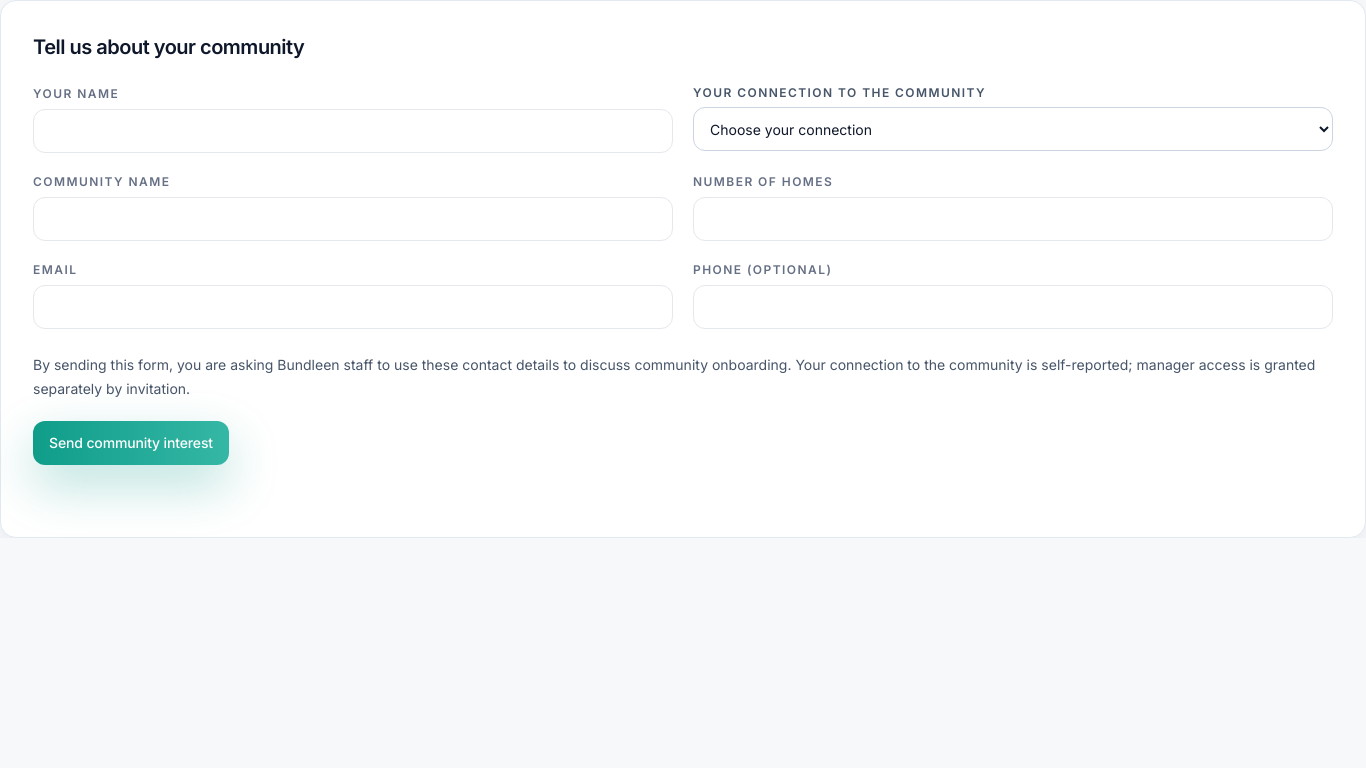
Scenario: public community interest form › submits only normalized contact metadata, then focuses a truthful receipt without account access
The width and height of the screenshot is (1366, 768).
Type " Jane Smith " into the field labelled "Your name" at (353, 131), box [46,110,660,152]
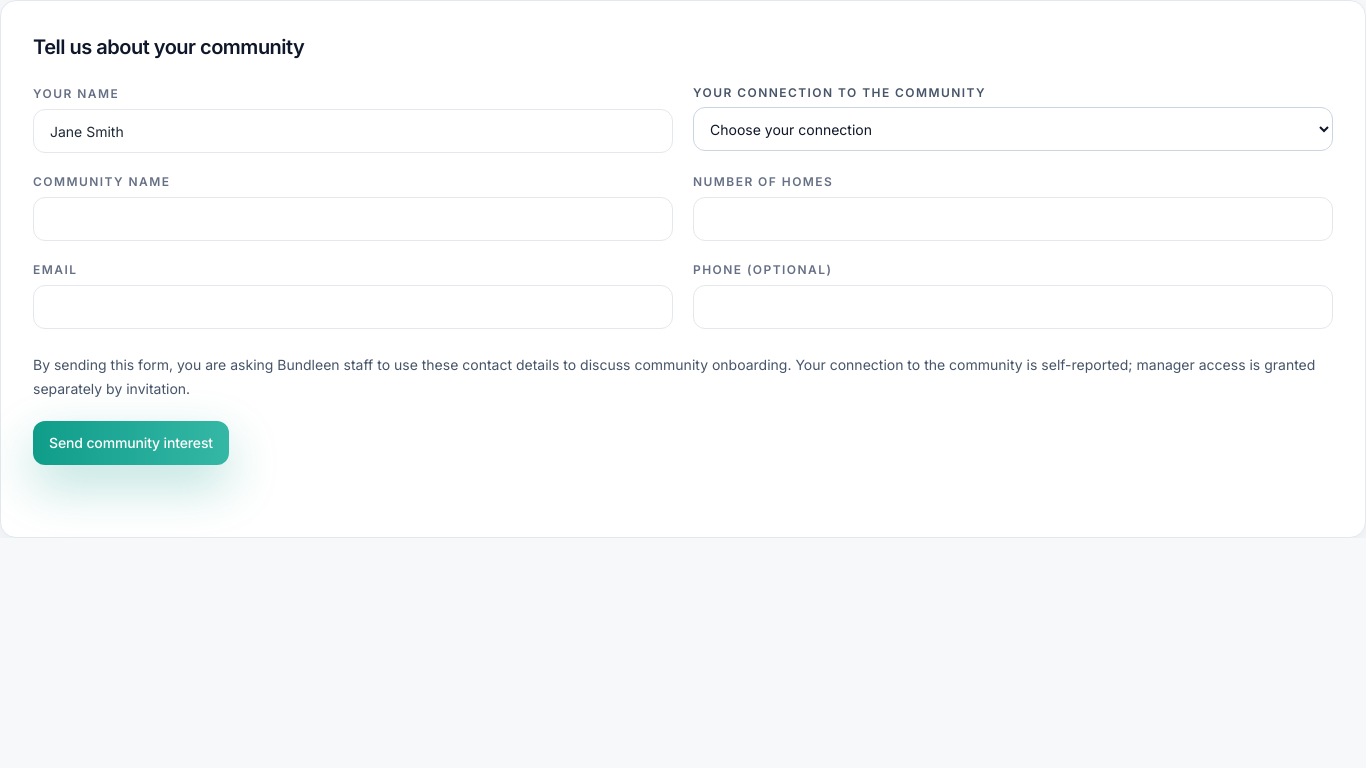
Type "Oakwood HOA" into the field labelled "Community name" at (353, 219), box [46,198,660,240]
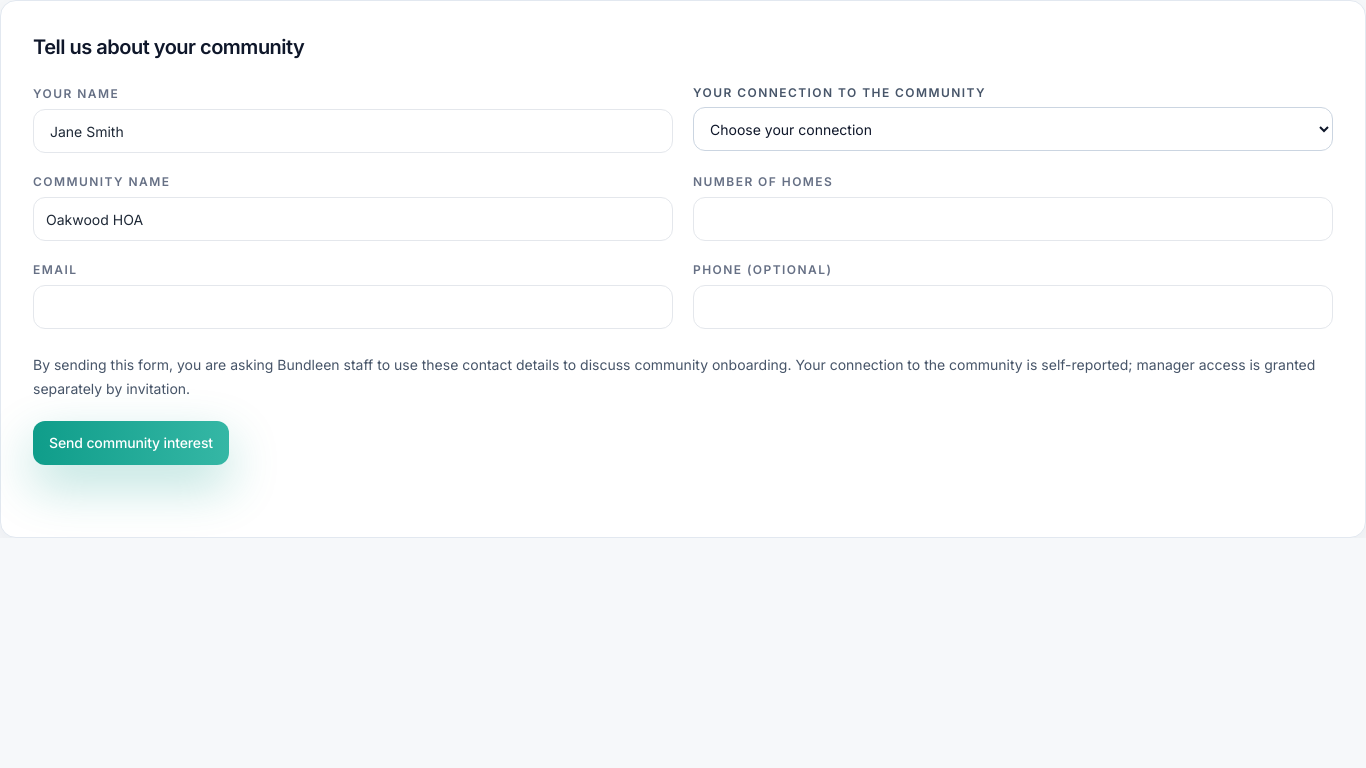
Type "75" into the field labelled "Number of homes" at (1013, 219), box [706,198,1320,240]
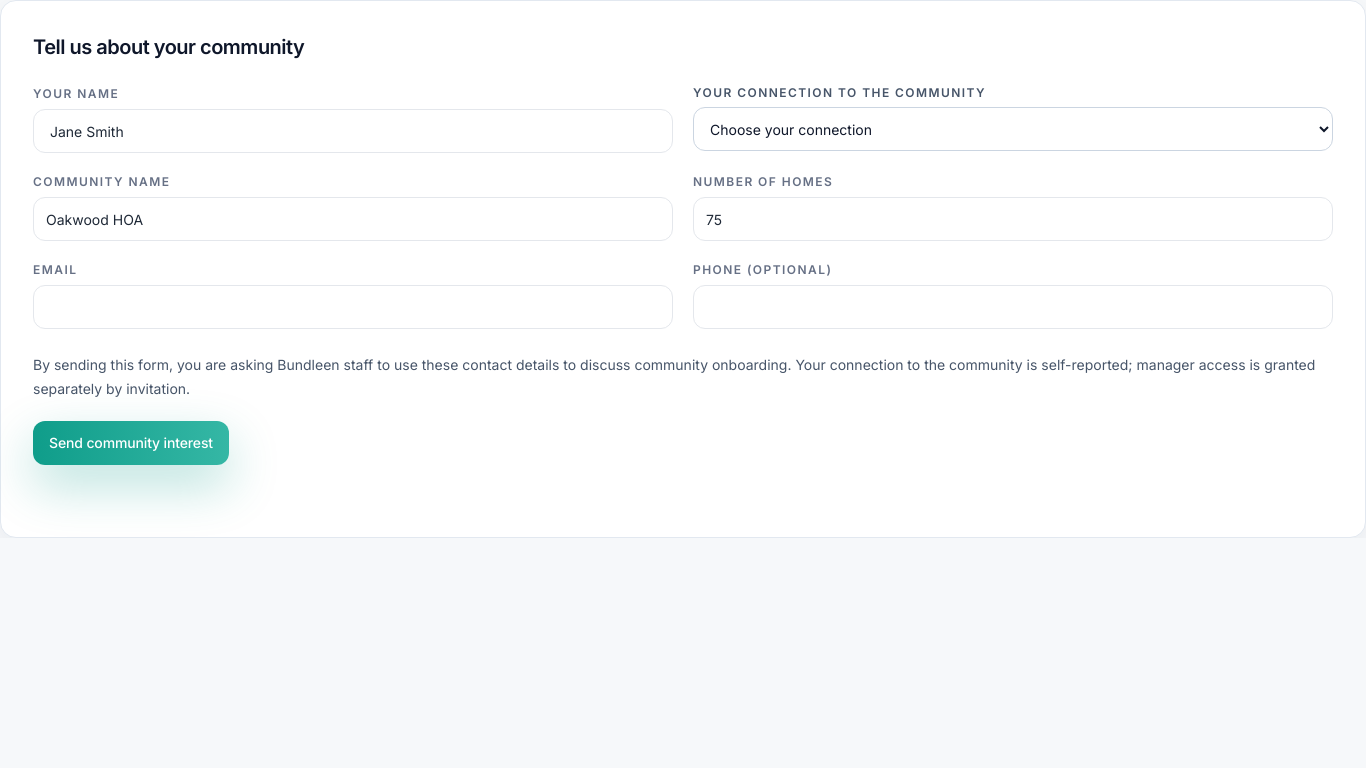
Type " JANE@EXAMPLE.INVALID " into the field labelled "Email" at (353, 307), box [46,286,660,328]
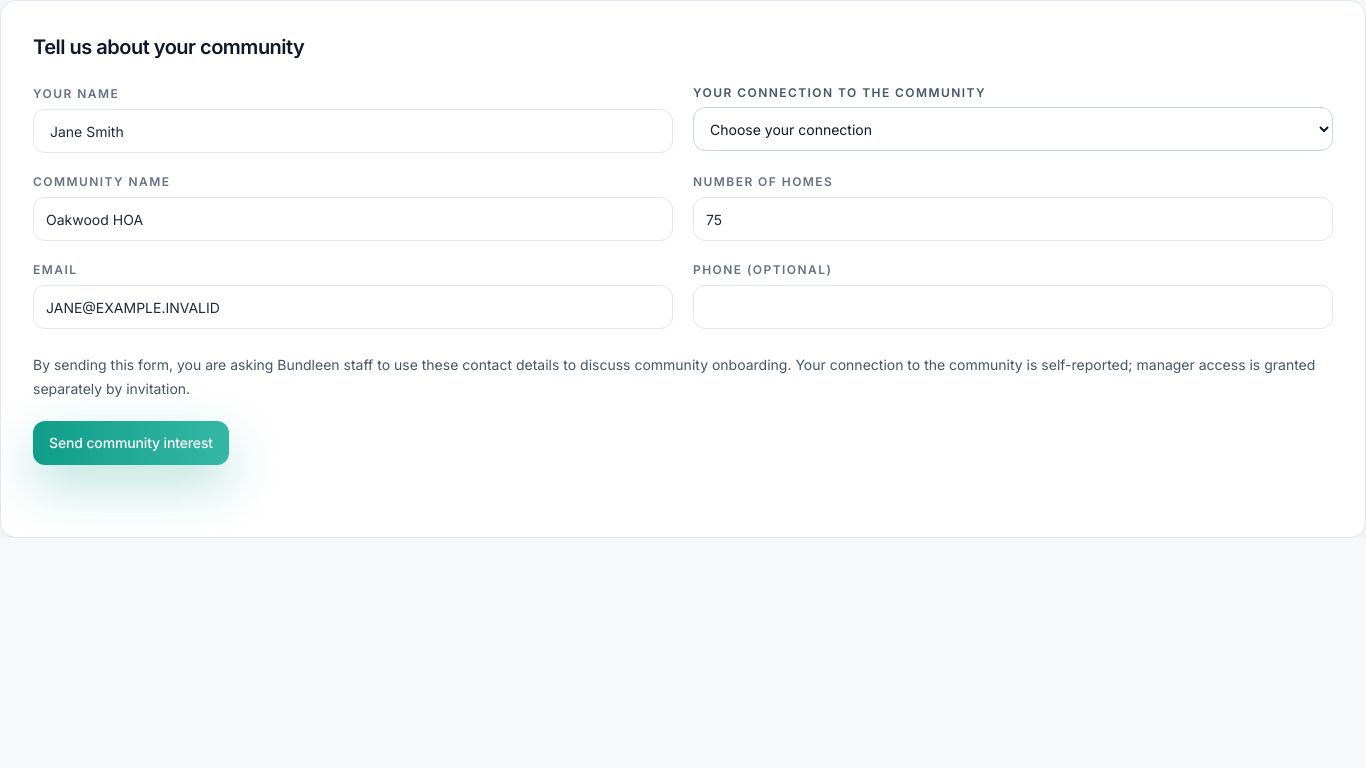
Select "Community manager" in the dropdown labelled "Your connection to the community" at (1013, 129), box [693,107,1333,151]
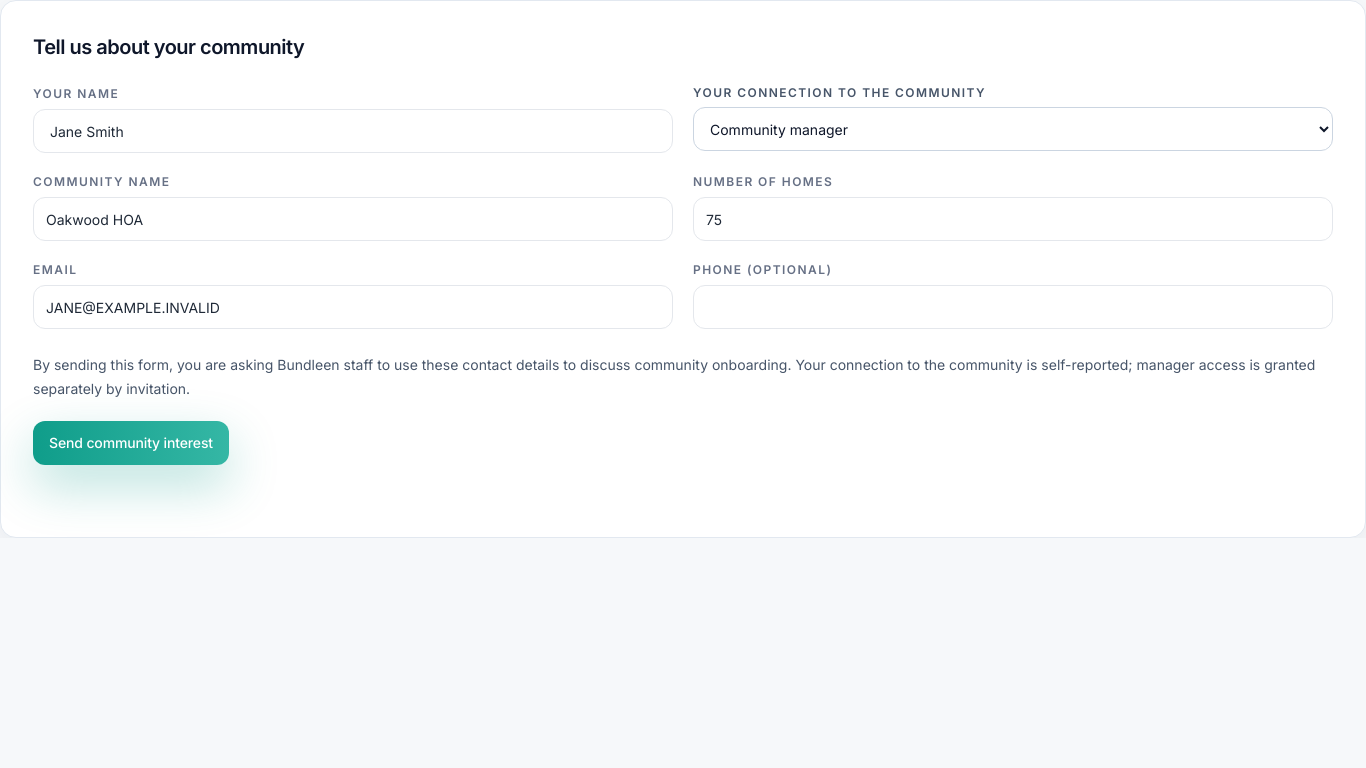
Click the button "Send community interest" at (131, 443), box [33,421,229,465]
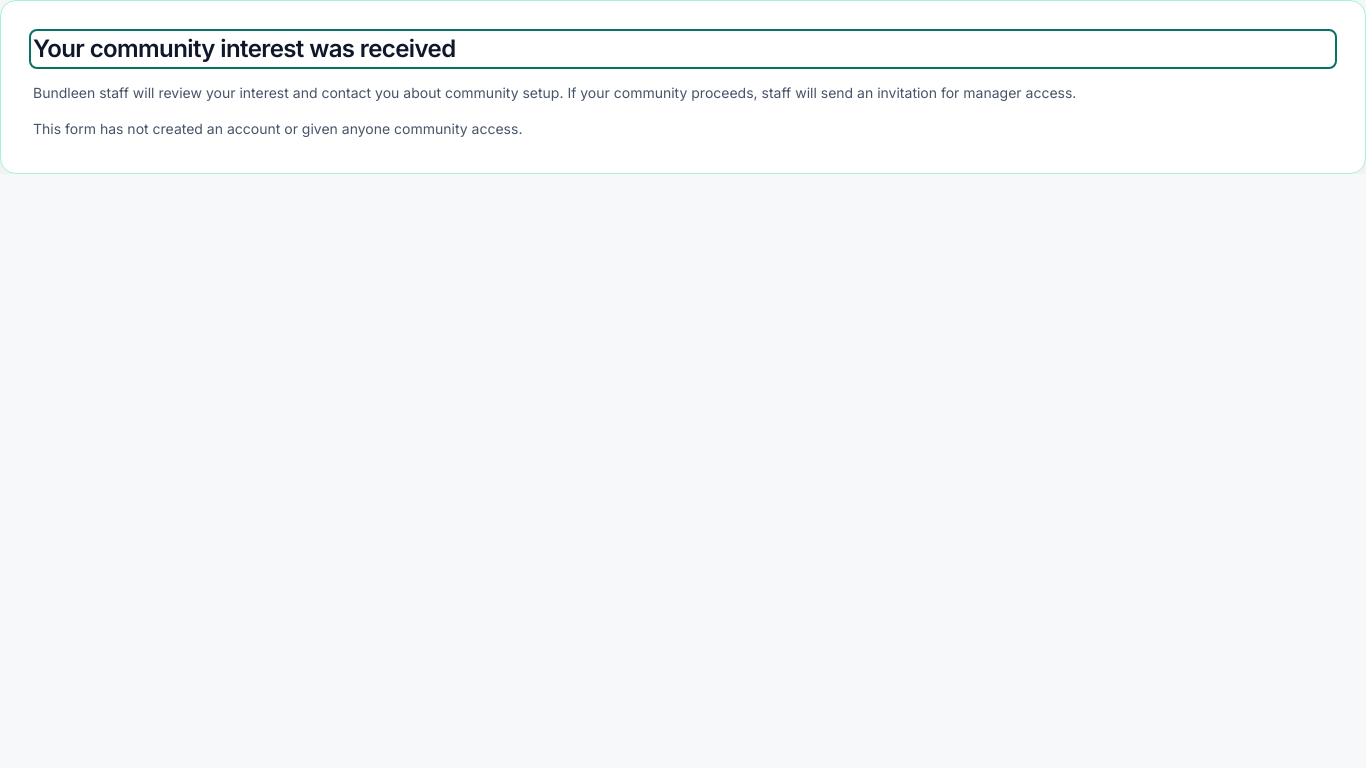
Expected: the heading "Your community interest was received" is shown, [33,34,456,63]
Expected: the text "has not created an account" is shown, [33,120,522,137]
